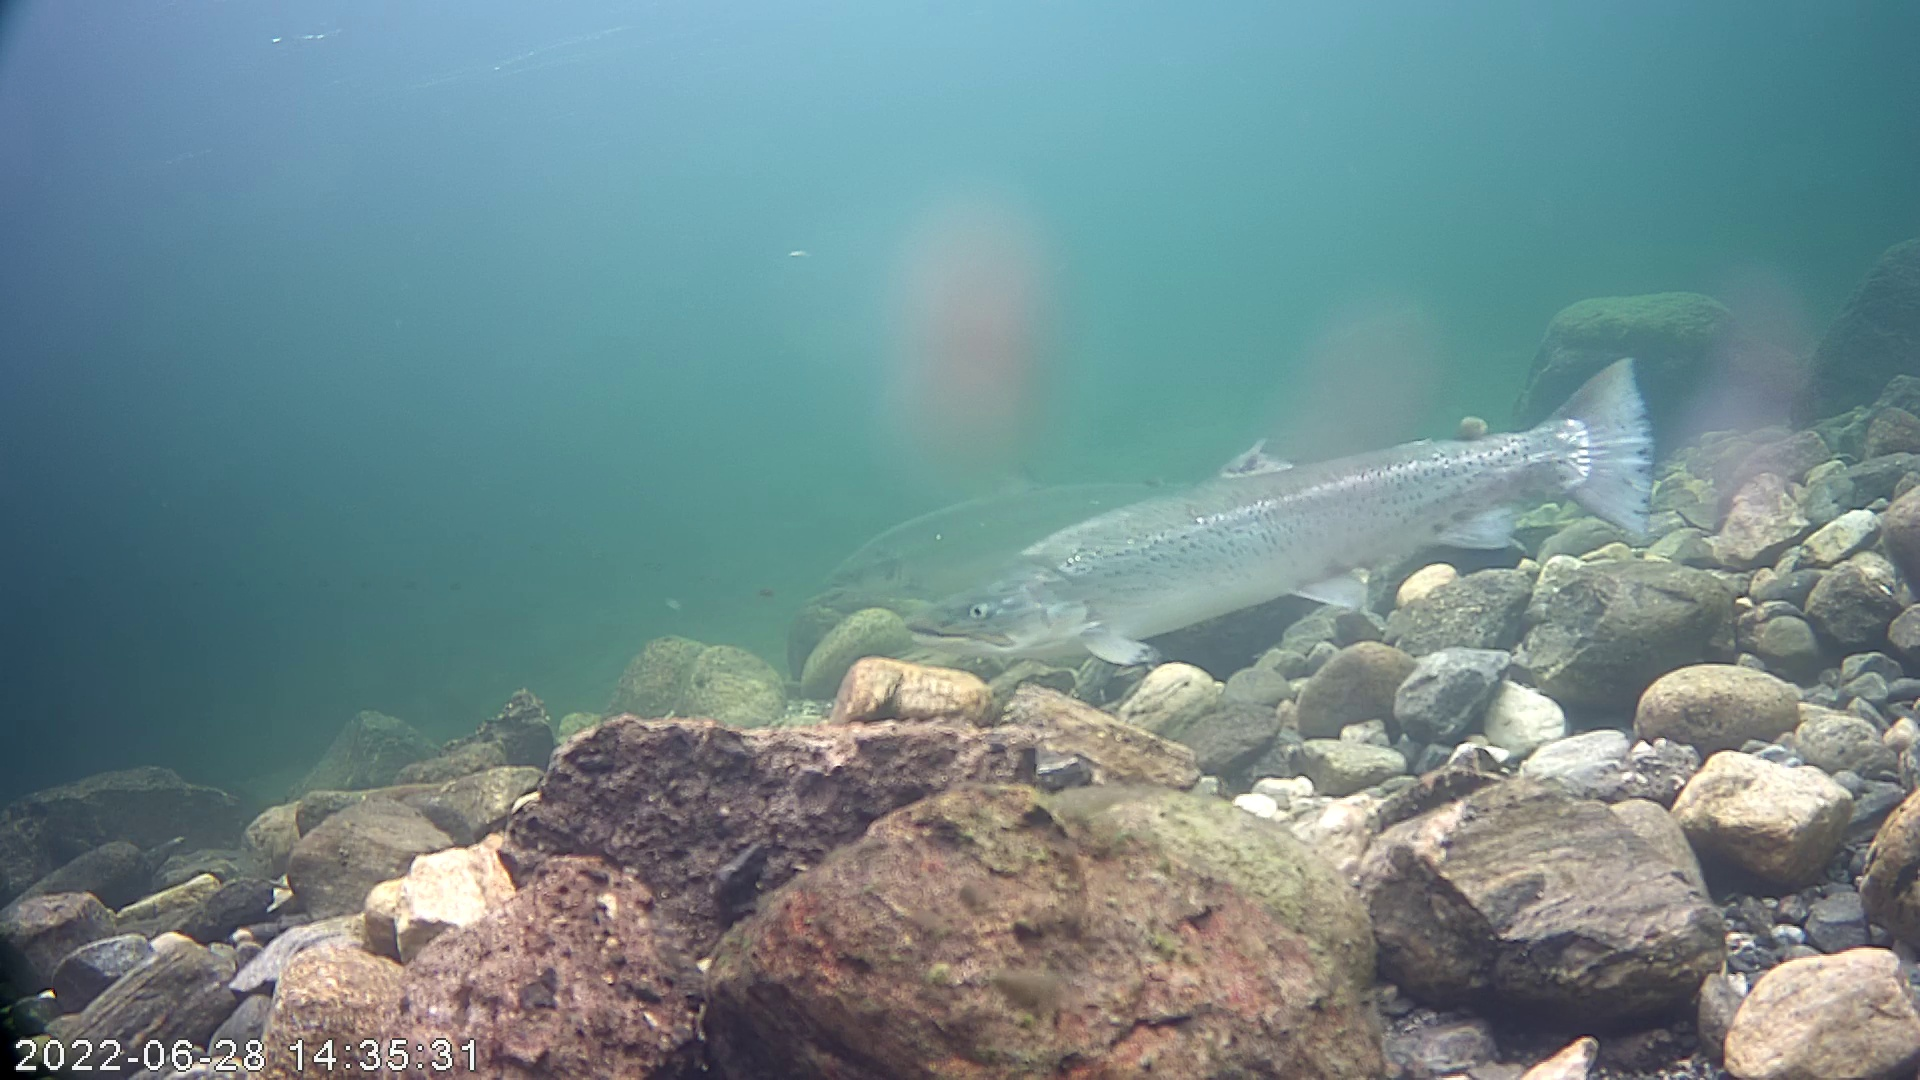salmon: (804, 272, 1697, 680)
